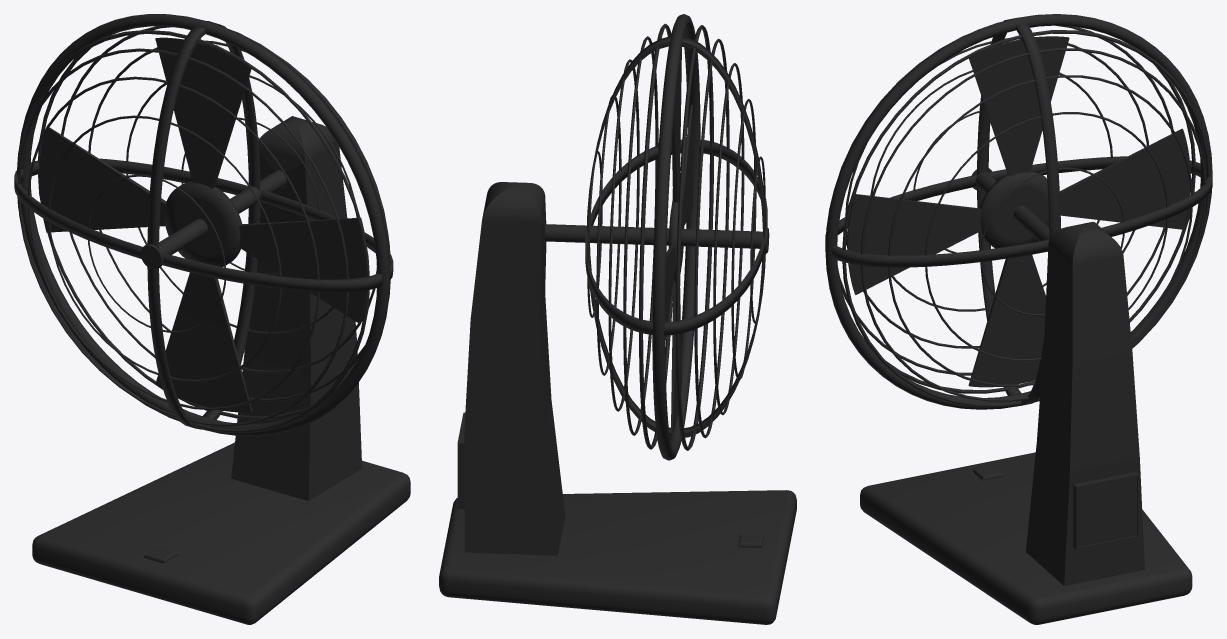
Rendered from Abanico.obj.
The picture shows the model from 3 angles, left to right: view 1: azimuth 30°, elevation 25°; view 2: azimuth 150°, elevation 25°; view 3: azimuth 270°, elevation 25°; orthographic projection. The views are drawn at different scales.
Parts seen in each view (by area): view 1: Base; view 2: Base; view 3: Base.
Boxes of the visible parts, x1,y1,x2,y2 form: Base: (14, 14, 410, 624); Base: (439, 14, 796, 624); Base: (825, 14, 1212, 624).
Size of the model in its own units: 0.7799 by 1.15 by 0.7879.
1 material, 1 textured.
